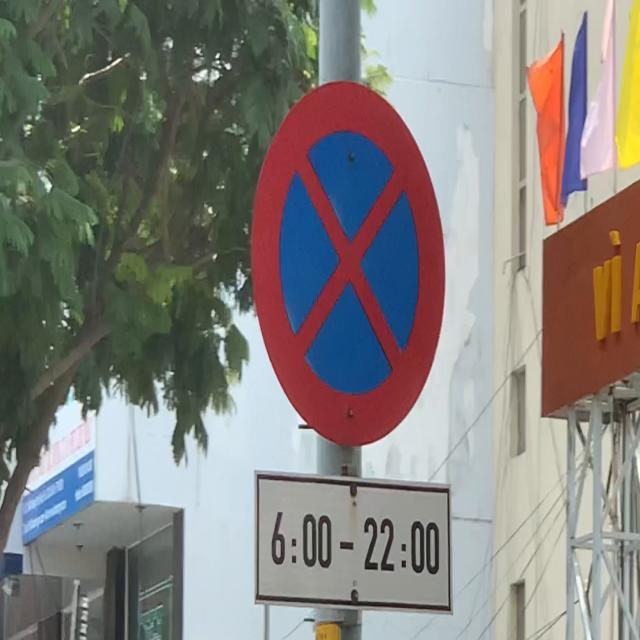Cam dung va do: (251, 78, 446, 450)
